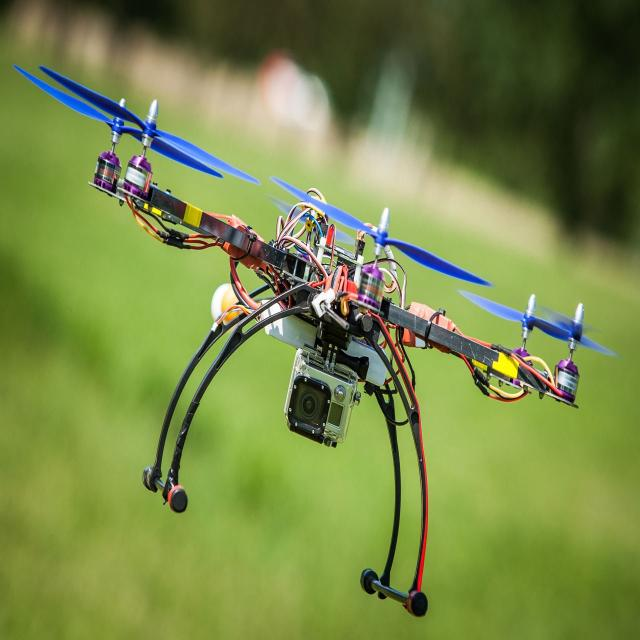drone: (13, 60, 619, 623)
